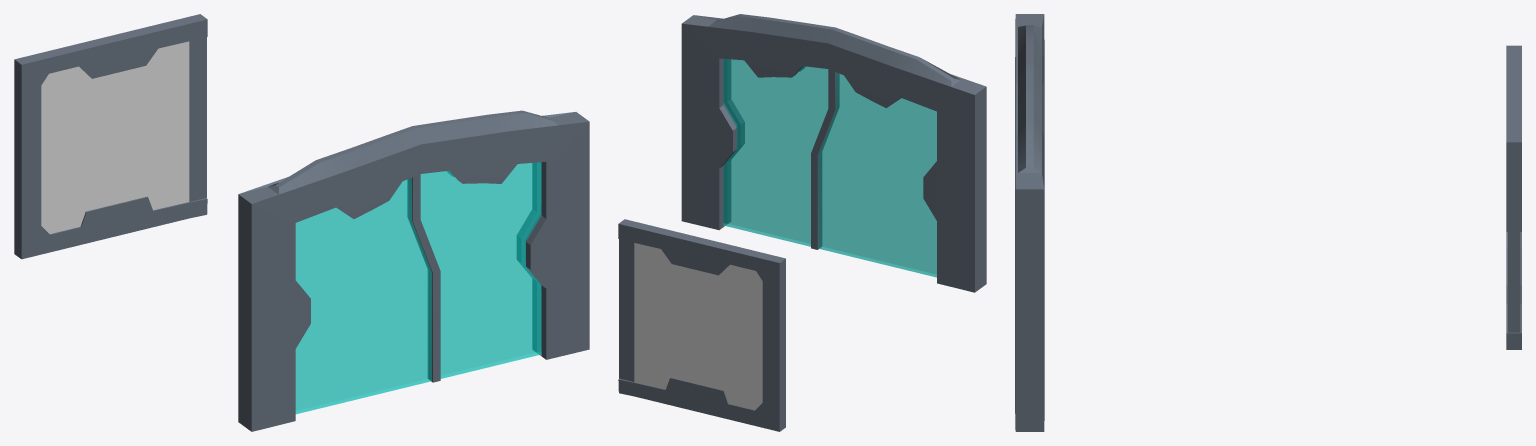
File: c_porte.fbx
The picture shows the model from 3 angles, left to right: view 1: azimuth 30°, elevation 25°; view 2: azimuth 150°, elevation 25°; view 3: azimuth 270°, elevation 25°; orthographic projection. The views are drawn at different scales.
Parts seen in each view (by area): view 1: pCube4, pCube3, mur_base, pCube5; view 2: pCube4, pCube3, mur_base, pCube5; view 3: pCube3, mur_base.
Boxes of the visible parts, x1,y1,x2,y2 form: pCube4: (295, 162, 541, 414); pCube3: (238, 110, 589, 431); mur_base: (14, 14, 207, 259); pCube5: (407, 174, 440, 382); pCube4: (723, 58, 936, 277); pCube3: (681, 14, 986, 292); mur_base: (618, 219, 785, 431); pCube5: (811, 69, 839, 249); pCube3: (1015, 14, 1044, 431); mur_base: (1506, 45, 1521, 349).
Bounding box in the file's own units: 0.5631 × 0.4115 × 0.6874.
